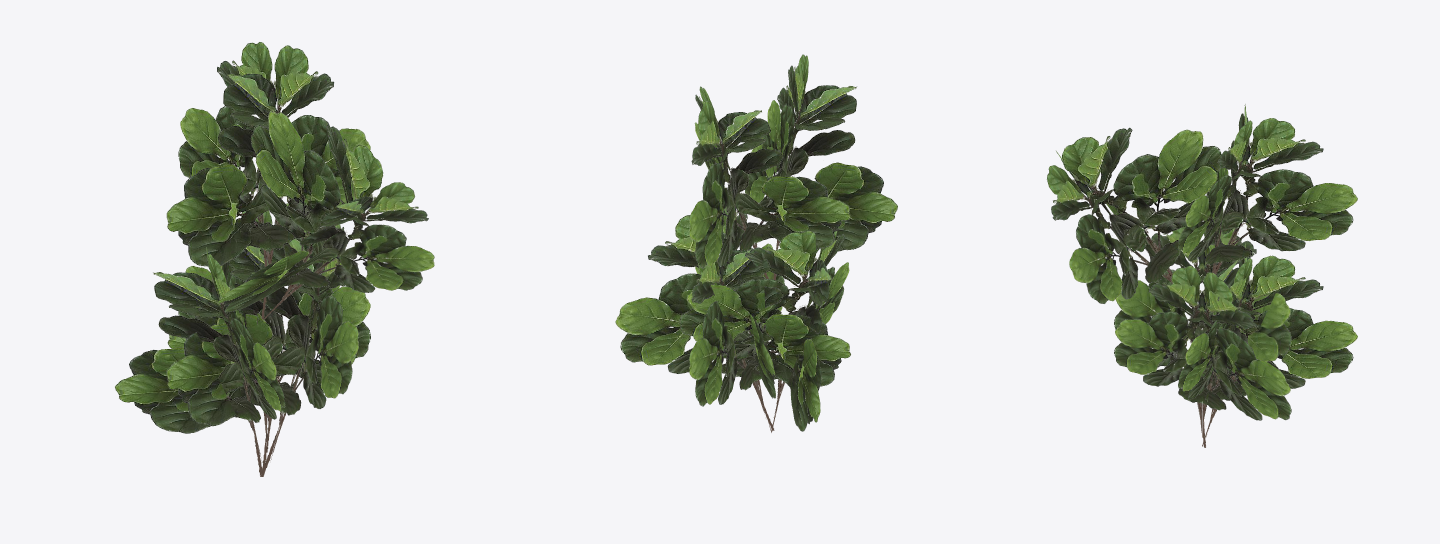
Rendered from FiddleLeaf.DAE.
3 views of the same model, side by side, from view 1: azimuth 30°, elevation 25°; view 2: azimuth 150°, elevation 25°; view 3: azimuth 270°, elevation 25° (orthographic). The views are drawn at different scales.
Visible parts, largest first — view 1: Plane03; view 2: Plane03; view 3: Plane03.
Boxes of the visible parts, box(x1,y1,x2,y2) form: Plane03: box(115, 42, 434, 476); Plane03: box(615, 54, 897, 432); Plane03: box(1046, 104, 1357, 447).
Bounding box in the file's own units: 1.75 × 2 × 2.31.
